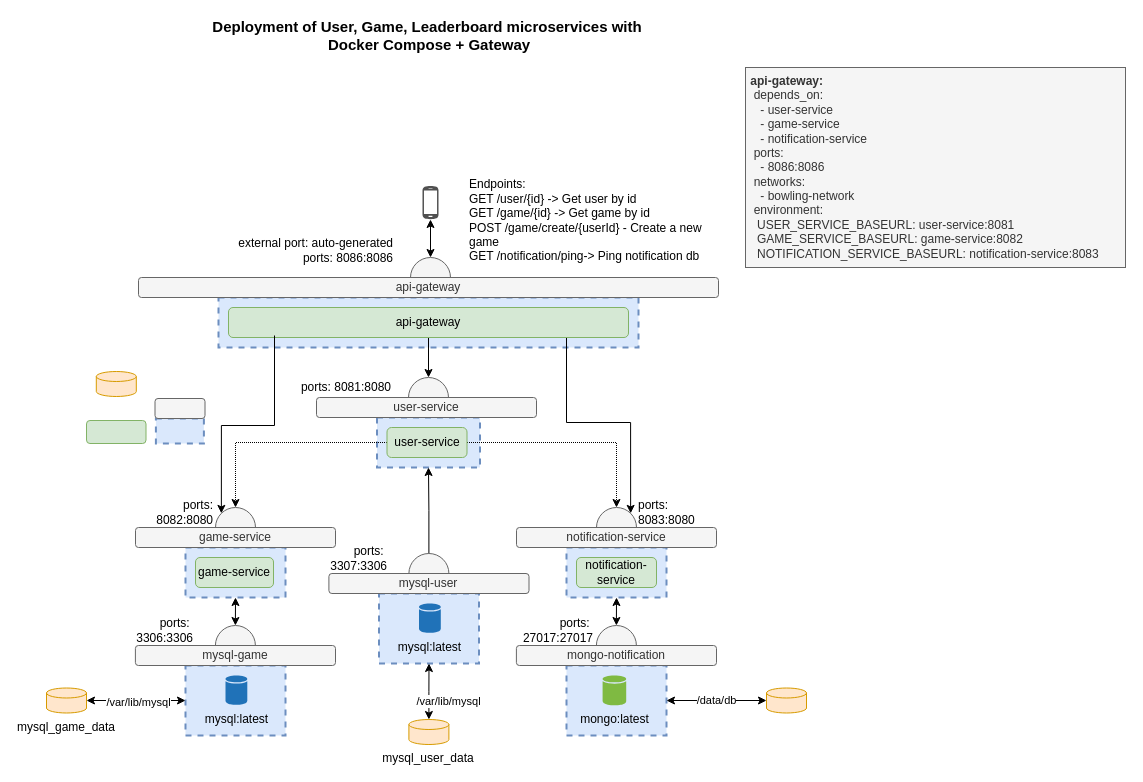
The diagram is 1143 pixels wide and 782 high, and some of its shapes have lost their labels. The shapes that lost their labels are listed below. From the top down, each one's box as (x1, y1, x2, y2) in pixels, then its label:
(95, 370, 136, 396): volume
(154, 398, 205, 418): service
(86, 420, 146, 444): container
(154, 417, 204, 444): POD
(766, 687, 806, 713): mongodb_notification_data
